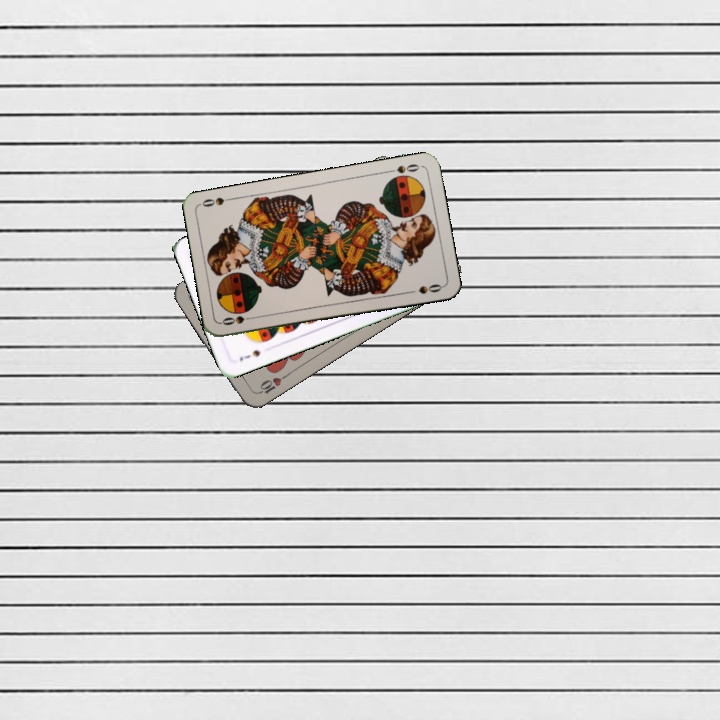H10: (252, 371, 289, 397)
S7: (235, 346, 263, 364)
SO: (218, 312, 258, 328), (383, 160, 423, 176)
